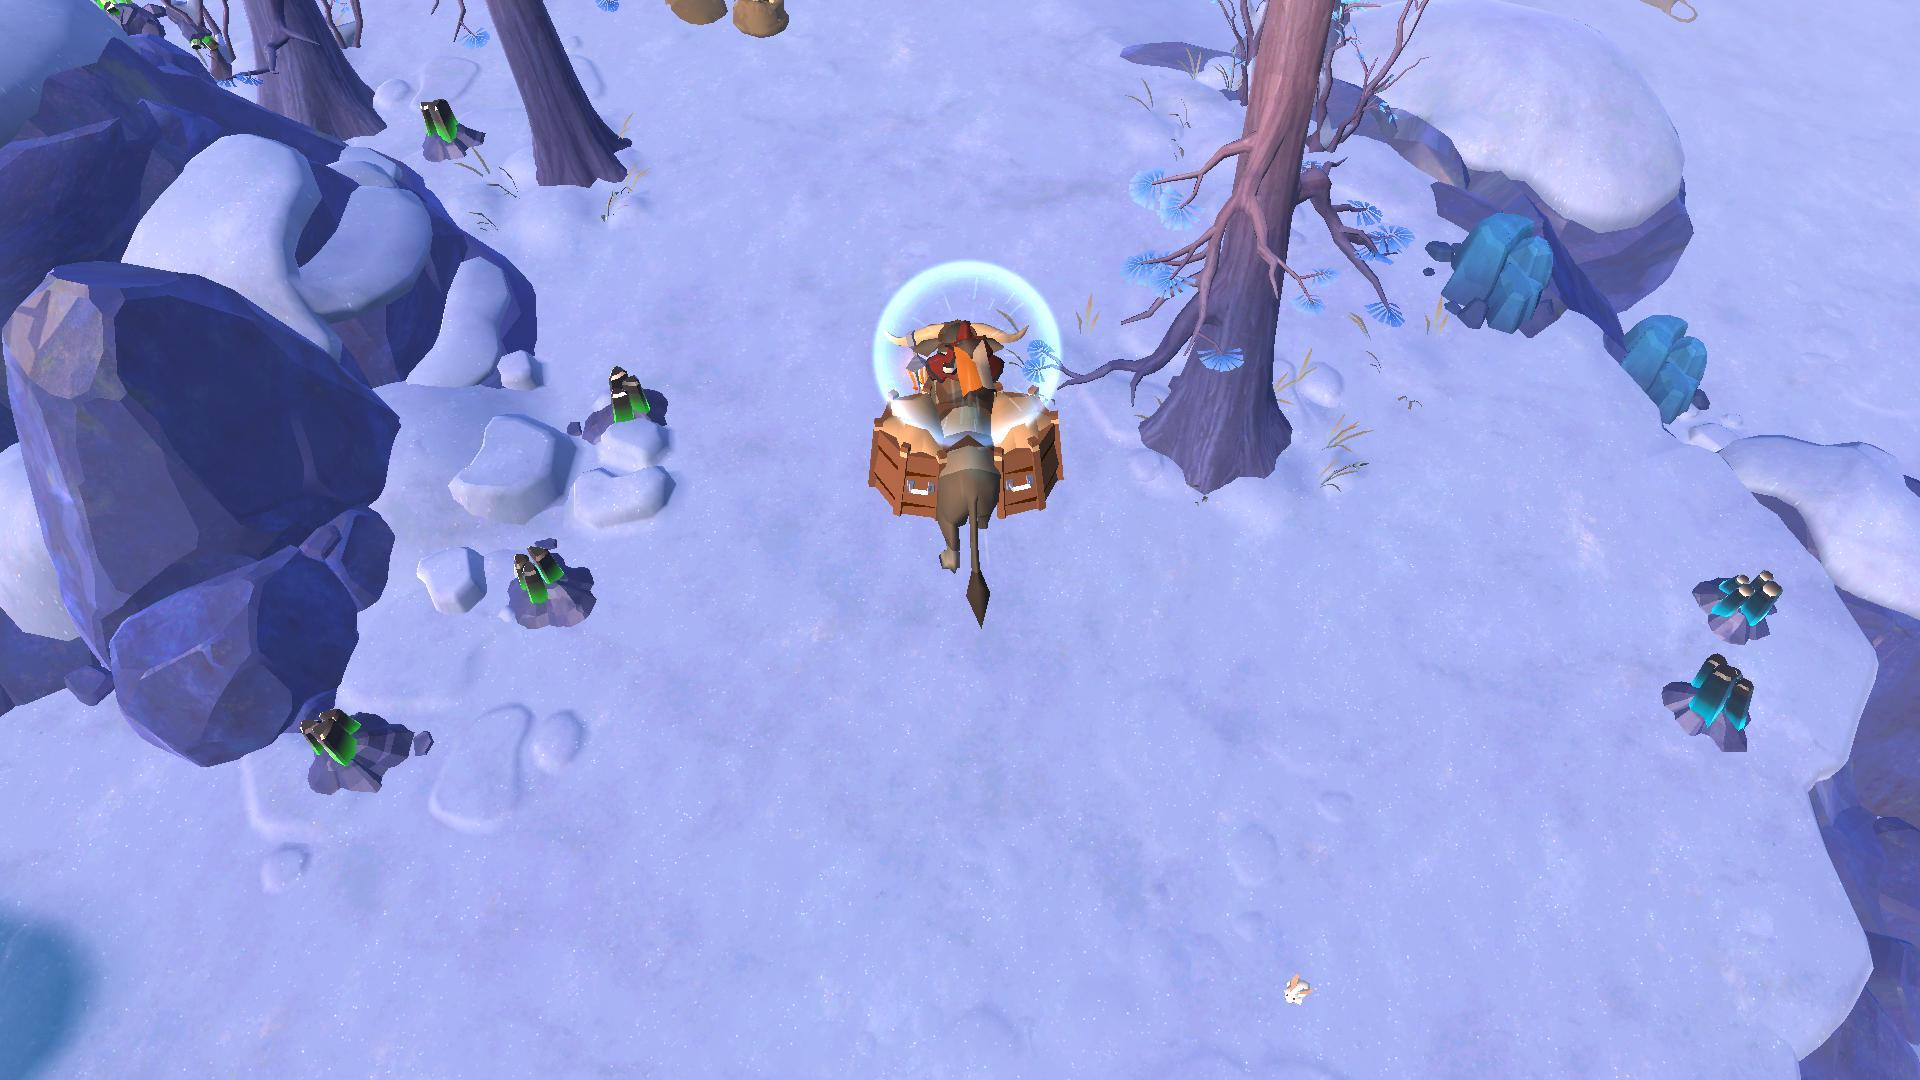ore_t3: (290, 707, 359, 769), (512, 541, 564, 604), (601, 359, 646, 427), (419, 94, 462, 144)
ore_t4: (1688, 649, 1756, 727), (1712, 560, 1783, 628)
rock_t4: (1435, 206, 1551, 332), (1614, 307, 1712, 433)
